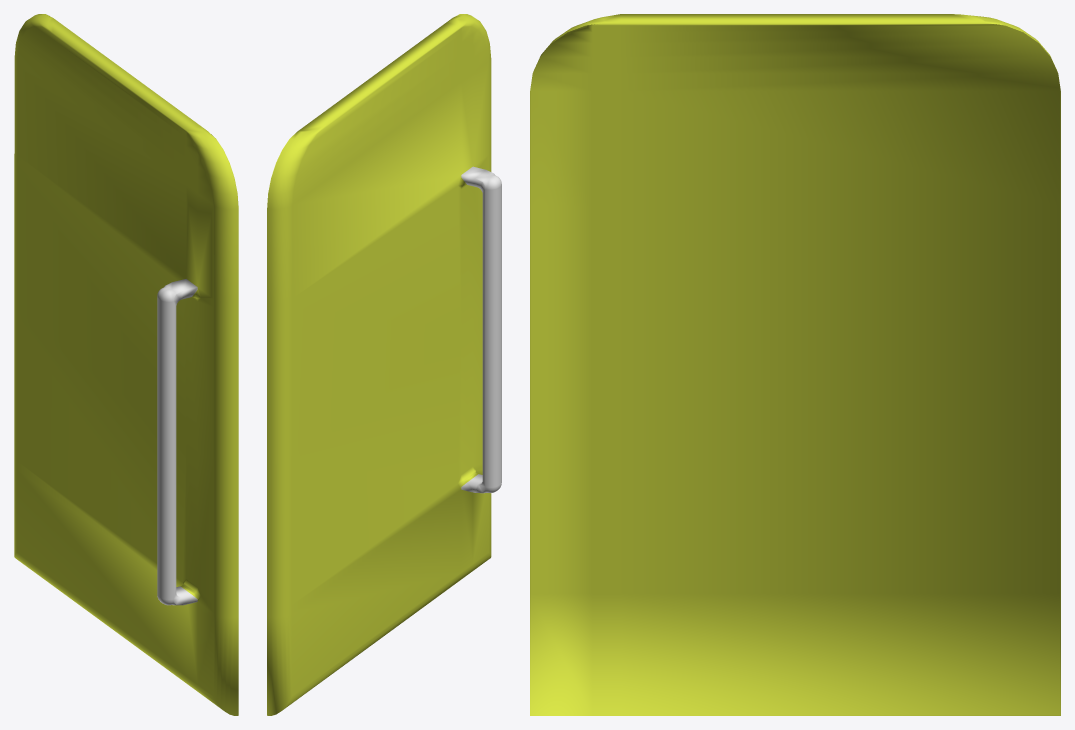
File: Freezer Door.fbx
The picture shows the model from 3 angles, left to right: view 1: azimuth 30°, elevation 25°; view 2: azimuth 150°, elevation 25°; view 3: azimuth 270°, elevation 25°; orthographic projection. The views are drawn at different scales.
Visible parts, largest first — view 1: Fridge Door; view 2: Fridge Door; view 3: Fridge Door.
Part boxes in pixels (left/top/right/bottom): Fridge Door: left=14, top=14, right=238, bottom=715; Fridge Door: left=267, top=14, right=501, bottom=715; Fridge Door: left=530, top=14, right=1060, bottom=715.
Bounding box in the file's own units: 11.74 × 131 × 90.86.
